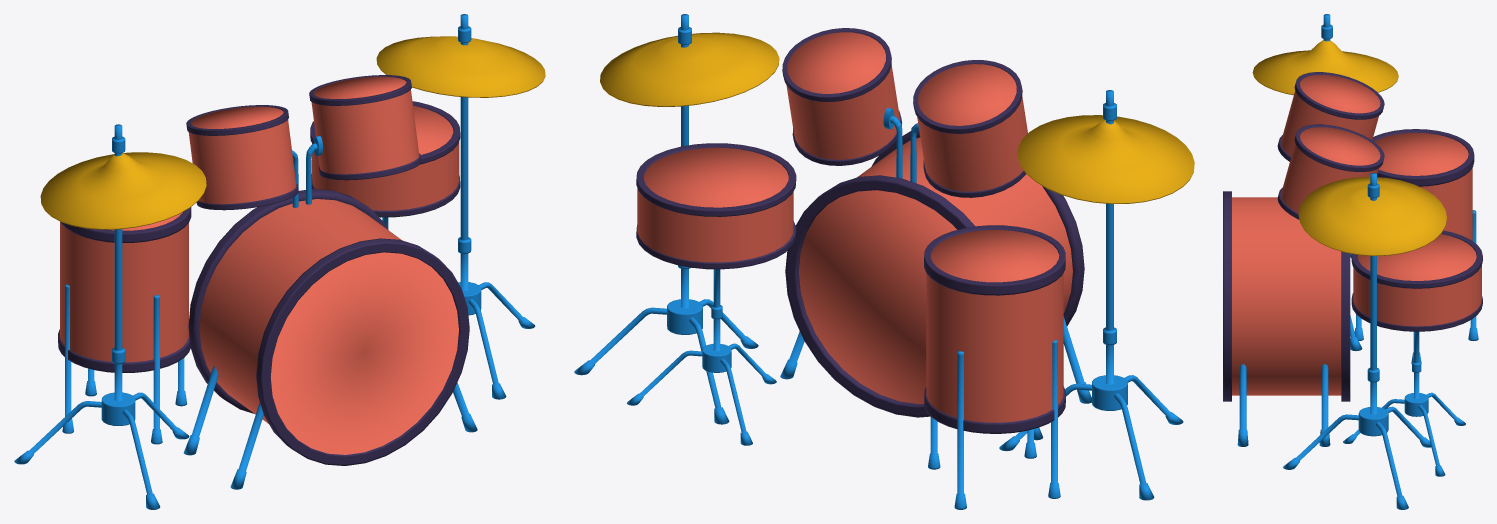
File: BatteriaJoinedMateriali.fbx
3 views of the same model, side by side, from view 1: azimuth 30°, elevation 25°; view 2: azimuth 150°, elevation 25°; view 3: azimuth 270°, elevation 25° (orthographic). The views are drawn at different scales.
Parts seen in each view (by area): view 1: AstaPiattoA.003; view 2: AstaPiattoA.003; view 3: AstaPiattoA.003.
Boxes of the visible parts, box(x1,y1,x2,y2) form: AstaPiattoA.003: box(14, 14, 545, 509); AstaPiattoA.003: box(574, 14, 1194, 509); AstaPiattoA.003: box(1223, 14, 1482, 509).
Bounding box in the file's own units: 987 × 609 × 479.
